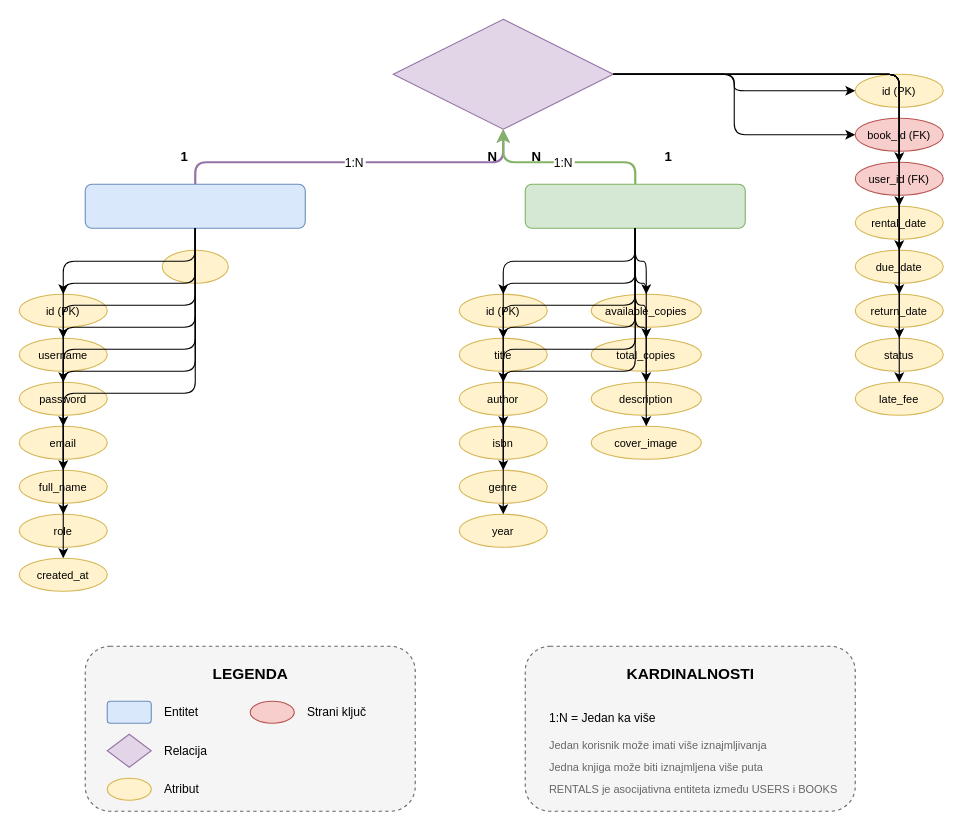
Some shapes in this 963 by 831 pixel diagram are drawn without their labels. The centre of each missing label's shape, as x and y in pixels:
BOOKS: (634,205)
RENTALS: (502,73)
USERS: (194,205)
